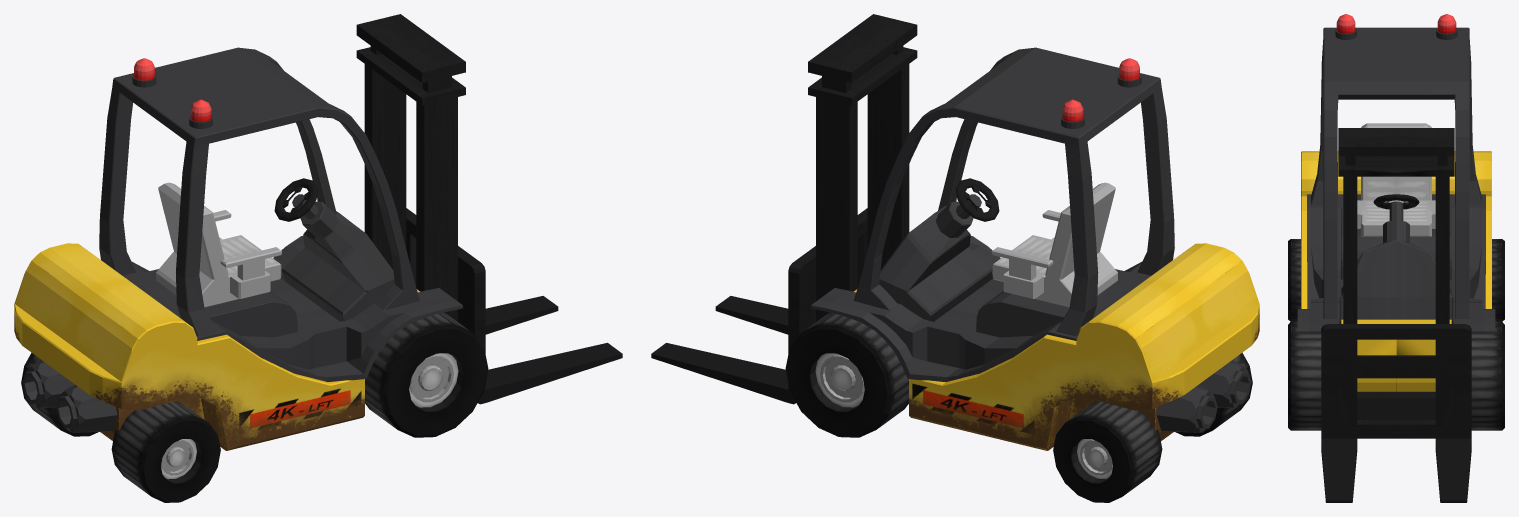
File: FORKLIFT.fbx
3 renders of one model, left to right at view 1: azimuth 30°, elevation 25°; view 2: azimuth 150°, elevation 25°; view 3: azimuth 270°, elevation 25°, orthographic. The views are drawn at different scales.
Parts seen in each view (by area): view 1: Cage.001, Body.001, LiftAxis.001, Cabin.001, FrontWheels.003, FrontWheels.001, Console, Lift.001, Body.002, Seat, Boosters, Cylinder.004 (+1 smaller); view 2: Cage.001, Body.002, LiftAxis.001, Cabin.001, FrontWheels.003, FrontWheels.001, Console, Lift.001, Body.001, Seat, Boosters, Cylinder.004 (+1 smaller); view 3: Cage.001, Lift.001, LiftAxis.001, Cabin.001, FrontWheels.003, Console, Seat, Body.001, Body.002, FrontWheels.001, Cylinder.004, SteeringWheel.
Part boxes in pixels (left/top/right/bottom): Cage.001: left=99, top=47, right=419, bottom=336; Body.001: left=56, top=282, right=420, bottom=450; LiftAxis.001: left=356, top=14, right=465, bottom=321; Cabin.001: left=123, top=236, right=462, bottom=381; FrontWheels.003: left=365, top=312, right=488, bottom=437; FrontWheels.001: left=21, top=352, right=220, bottom=502; Console: left=281, top=194, right=394, bottom=321; Lift.001: left=406, top=208, right=622, bottom=404; Body.002: left=14, top=243, right=131, bottom=369; Seat: left=156, top=182, right=281, bottom=307; Boosters: left=22, top=360, right=117, bottom=432; Cylinder.004: left=132, top=58, right=212, bottom=128; Cage.001: left=854, top=47, right=1174, bottom=336; Body.002: left=853, top=282, right=1217, bottom=450; LiftAxis.001: left=808, top=14, right=917, bottom=321; Cabin.001: left=811, top=236, right=1150, bottom=381; FrontWheels.003: left=785, top=312, right=908, bottom=437; FrontWheels.001: left=1053, top=352, right=1252, bottom=502; Console: left=879, top=194, right=992, bottom=321; Lift.001: left=651, top=208, right=867, bottom=404; Body.001: left=1142, top=243, right=1259, bottom=369; Seat: left=992, top=182, right=1117, bottom=307; Boosters: left=1156, top=360, right=1251, bottom=432; Cylinder.004: left=1061, top=58, right=1141, bottom=128; Cage.001: left=1311, top=27, right=1481, bottom=318; Lift.001: left=1321, top=324, right=1471, bottom=502; LiftAxis.001: left=1338, top=128, right=1454, bottom=378; Cabin.001: left=1297, top=194, right=1495, bottom=334; FrontWheels.003: left=1288, top=321, right=1504, bottom=430; Console: left=1341, top=201, right=1451, bottom=319; Seat: left=1357, top=123, right=1435, bottom=236; Body.001: left=1301, top=151, right=1396, bottom=391; Body.002: left=1396, top=151, right=1491, bottom=391; FrontWheels.001: left=1288, top=239, right=1504, bottom=321; Cylinder.004: left=1335, top=14, right=1457, bottom=39; SteeringWheel: left=1373, top=194, right=1419, bottom=209.
Bounding box in the file's own units: 271 × 177 × 107.
